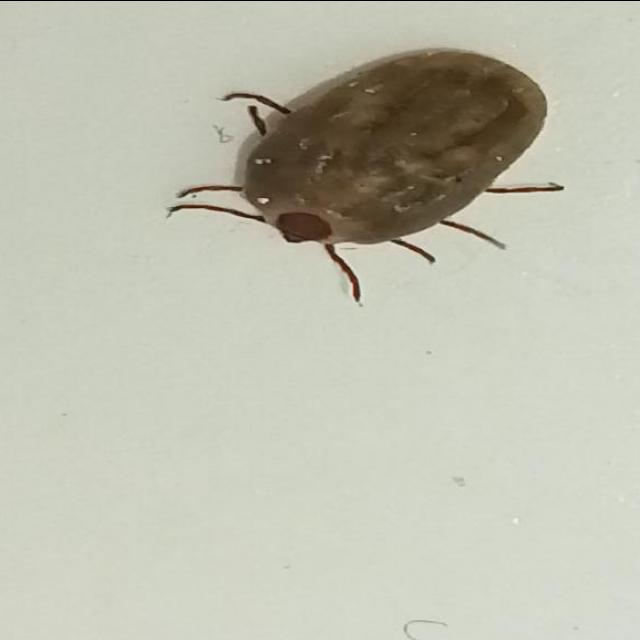Rhipicephalus Sanguineus-F-Fed: (166, 45, 567, 305)
